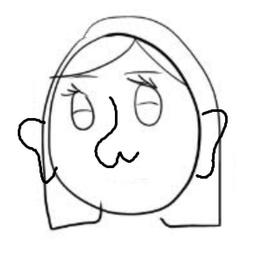ear: (193, 107, 231, 182), (18, 114, 58, 182)
eye: (125, 75, 169, 132), (60, 83, 97, 132)
eyebrow: (49, 71, 102, 84), (121, 69, 161, 76)
large_nose: (90, 89, 142, 171)
